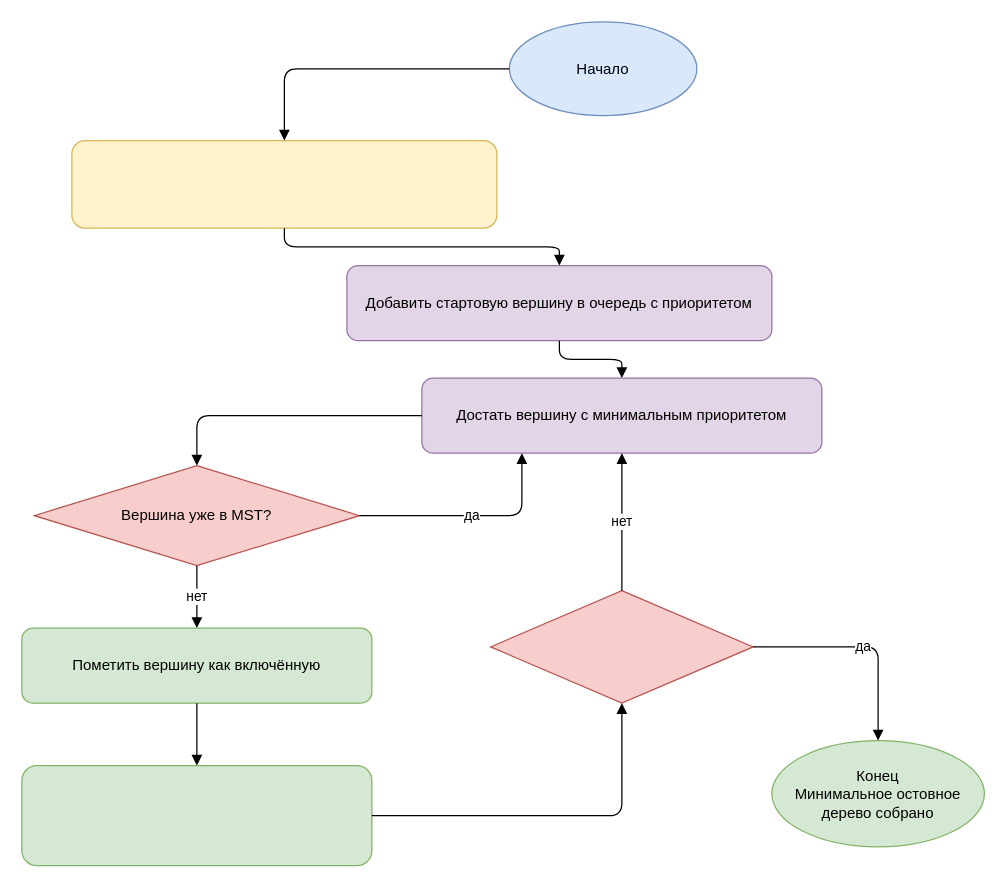
This 1006x888 diagram has some shape labels left out. The shapes that lost their labels are listed below. From the top down, each one's centre as x and y in pixels, then its label:
At point 284,183: "Выбрать стартовую вершину".
At point 621,646: "Очередь пуста?".
At point 196,815: "Просмотреть всех соседей, обновить приоритеты".
